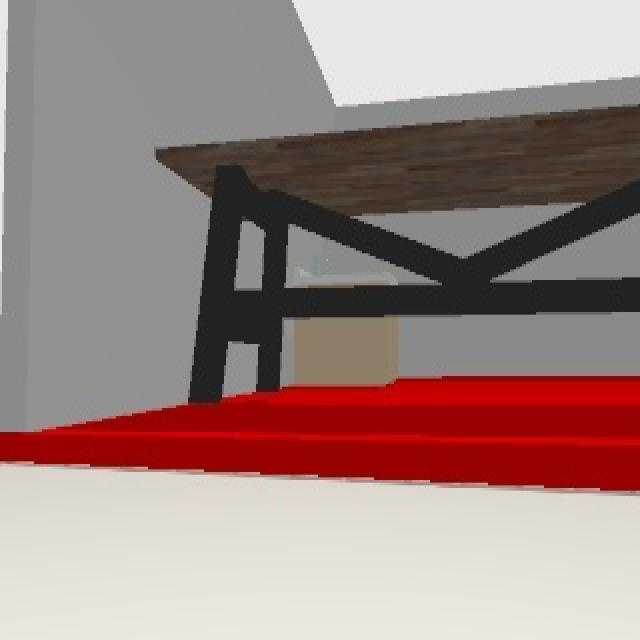dining: (155, 103, 640, 400)
